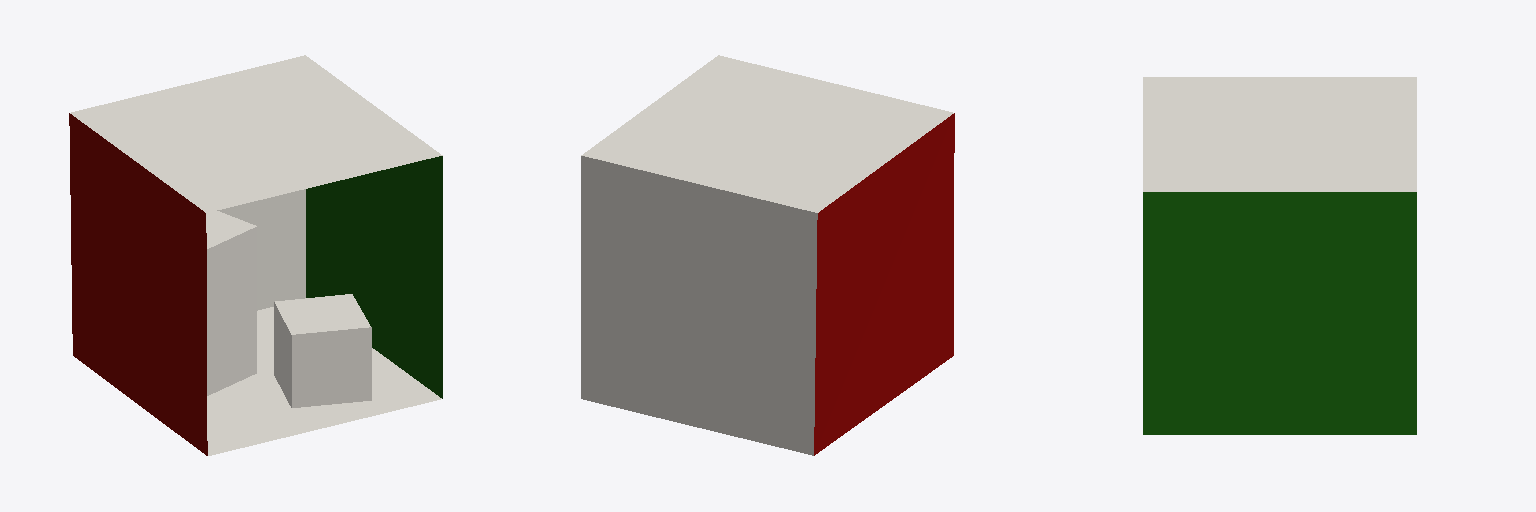
Rendered from cornellbox_original.obj.
3 renders of one model, left to right at view 1: azimuth 30°, elevation 25°; view 2: azimuth 150°, elevation 25°; view 3: azimuth 270°, elevation 25°, orthographic.
Visible parts, largest first — view 1: leftWall, ceiling, rightWall, floor, shortBox, backWall; view 2: backWall, leftWall, ceiling; view 3: rightWall, ceiling.
Boxes of the visible parts, x1=… form: leftWall: x1=69, y1=113, x2=371, y2=455; ceiling: x1=70, y1=55, x2=442, y2=212; rightWall: x1=306, y1=156, x2=442, y2=398; floor: x1=207, y1=307, x2=441, y2=455; shortBox: x1=206, y1=211, x2=256, y2=395; backWall: x1=217, y1=189, x2=305, y2=310; backWall: x1=581, y1=156, x2=817, y2=455; leftWall: x1=814, y1=113, x2=954, y2=455; ceiling: x1=581, y1=55, x2=953, y2=212; rightWall: x1=1143, y1=192, x2=1416, y2=434; ceiling: x1=1143, y1=77, x2=1416, y2=191.
Size of the model in its own units: 2.02 by 1.99 by 2.03.